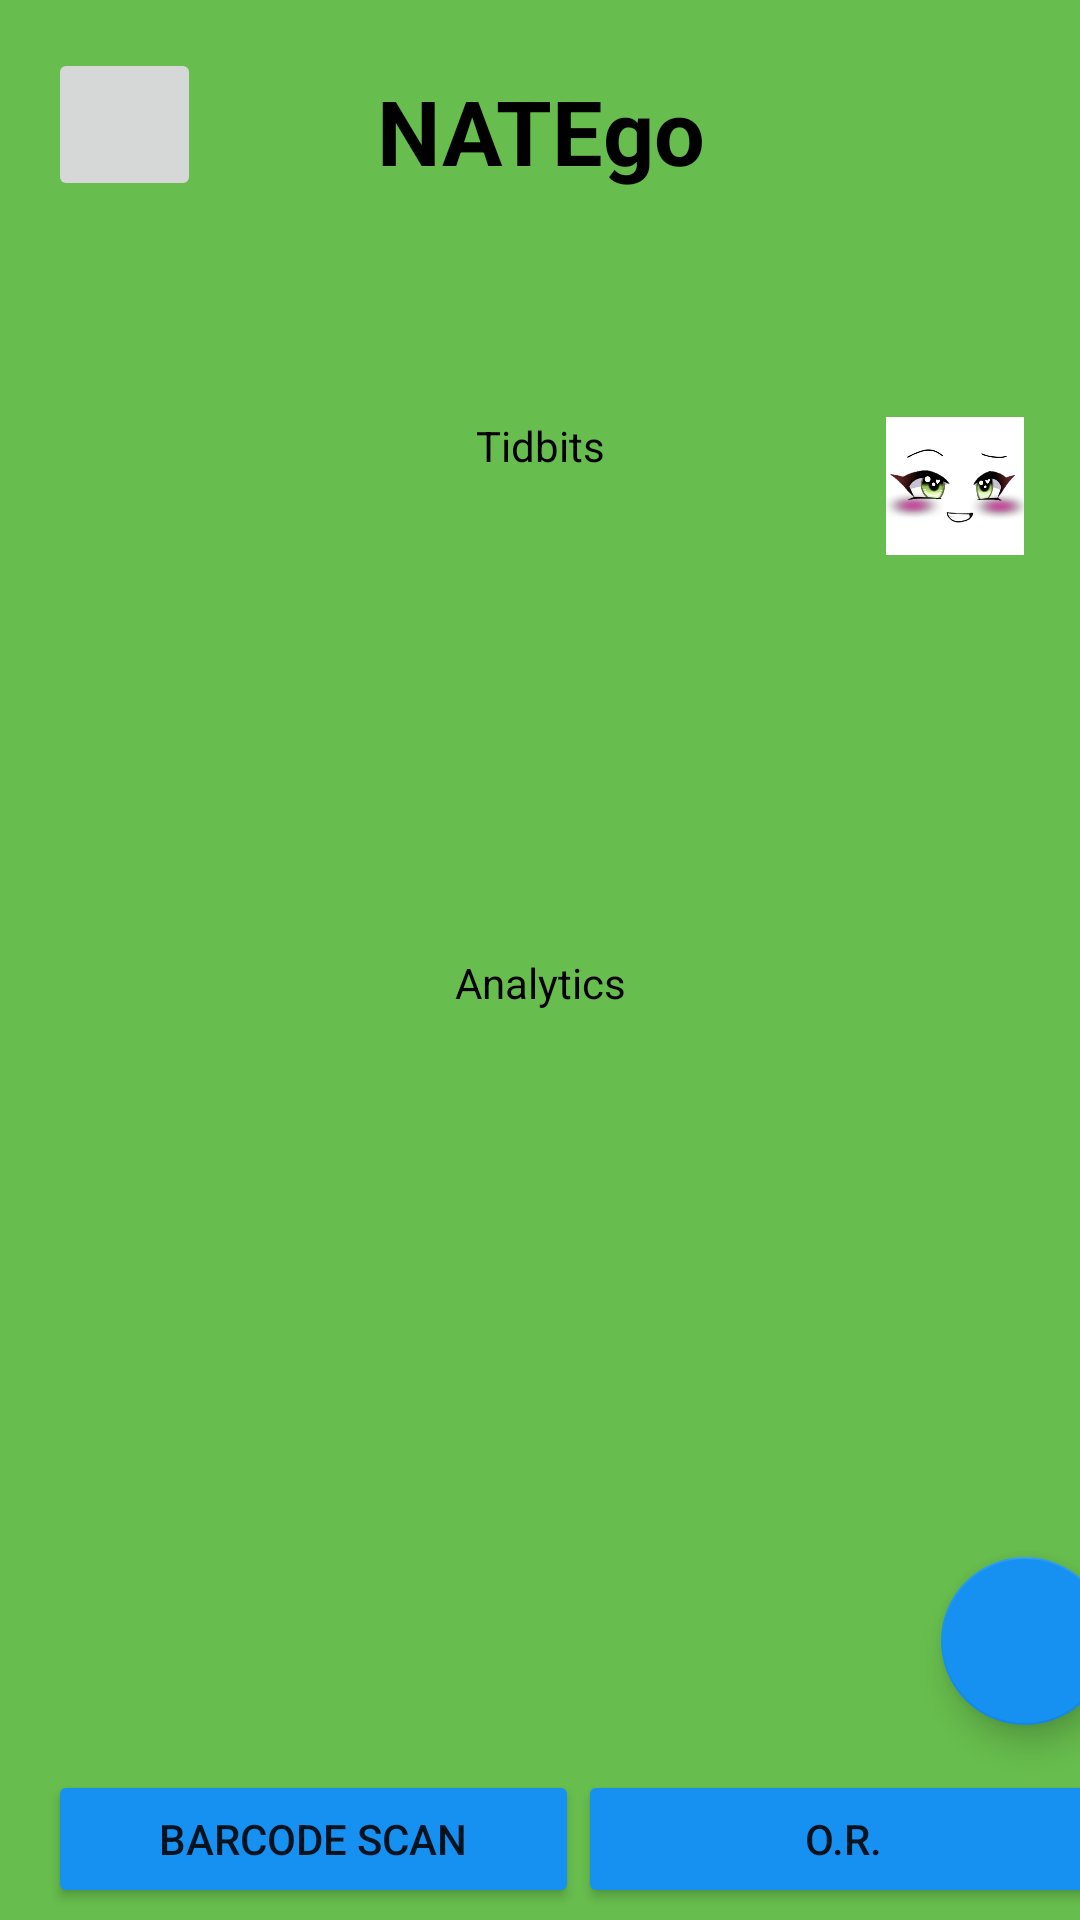

Screen size 1080 x 1920. Icon name, then its center in pixels as (x=x, y=y):
happy: (x=955, y=486)
